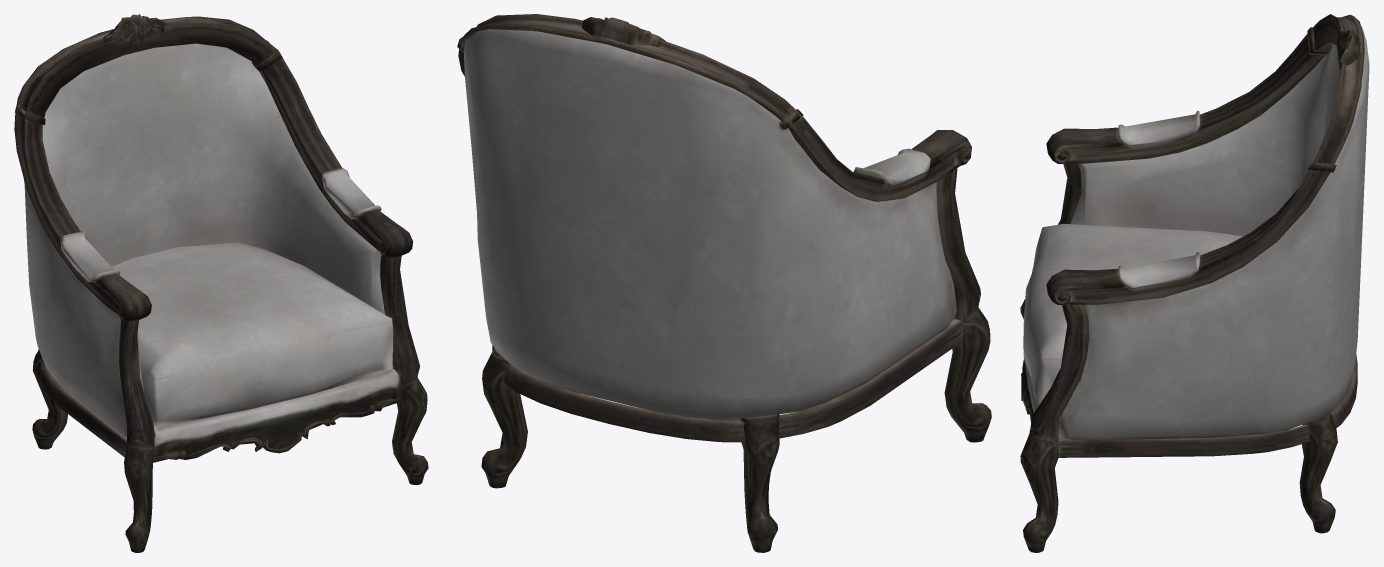
File: scene-armchair.glb
3 views of the same model, side by side, from view 1: azimuth 30°, elevation 25°; view 2: azimuth 150°, elevation 25°; view 3: azimuth 270°, elevation 25° (orthographic). The views are drawn at different scales.
Visible parts, largest first — view 1: ArmChair_01; view 2: ArmChair_01; view 3: ArmChair_01.
Boxes of the visible parts, x1,y1,x2,y2 form: ArmChair_01: (14, 14, 428, 552); ArmChair_01: (457, 14, 991, 552); ArmChair_01: (1020, 14, 1369, 552).
Size of the model in its own units: 0.8483 by 1.06 by 0.7658.
1 material, 1 textured.
